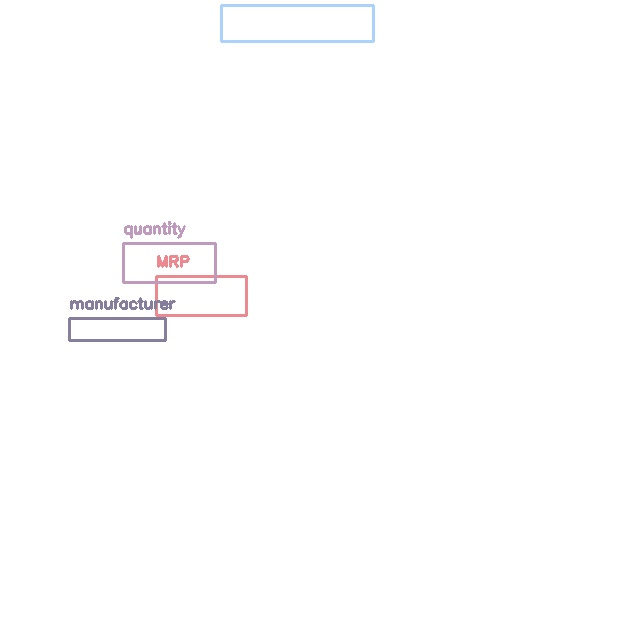MRP: (156, 276, 246, 315)
date: (221, 5, 373, 41)
manufacturer: (69, 318, 165, 340)
quantity: (123, 243, 215, 282)
